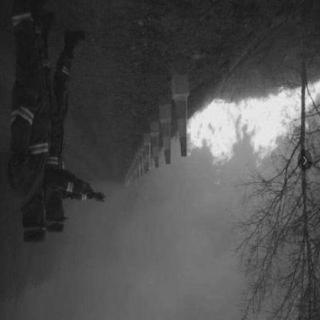Fire: (178, 79, 320, 183)
